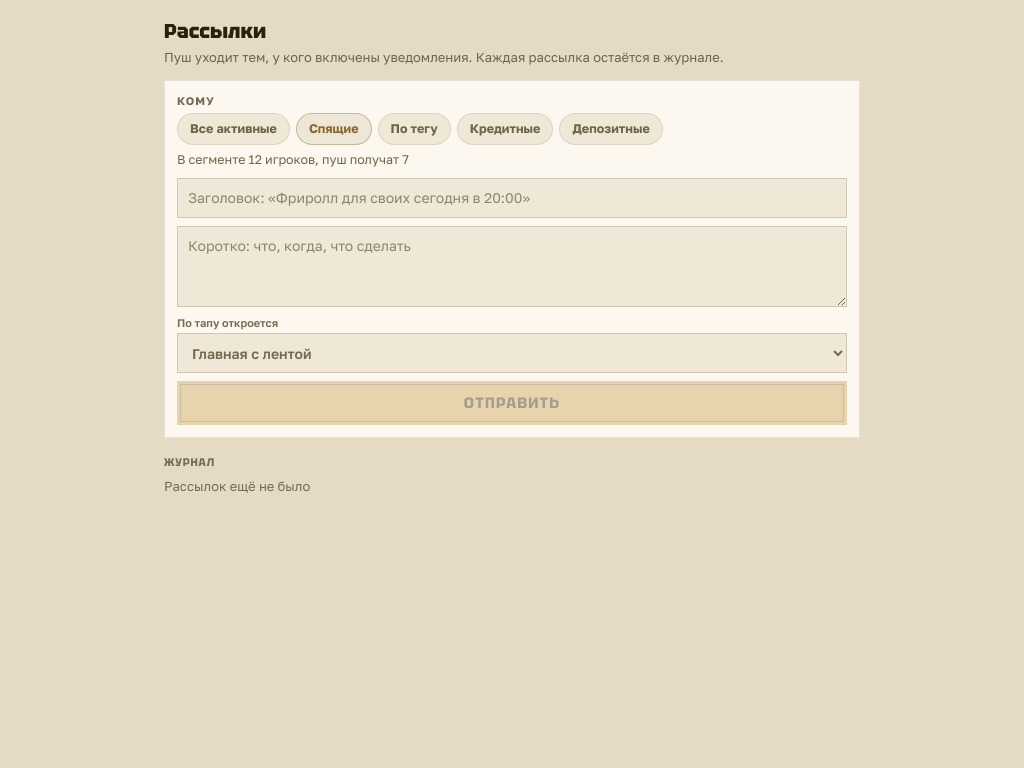
Scenario: AdminBroadcastsPage › previews the segment and sends after confirmation
Expected: the text "В сегменте 12 игроков, пуш получат 7" is shown, x1=177 y1=152 x2=409 y2=167
Type "Фриролл" into the field named "Заголовок пуша" at (512, 198), box x1=177 y1=178 x2=847 y2=218
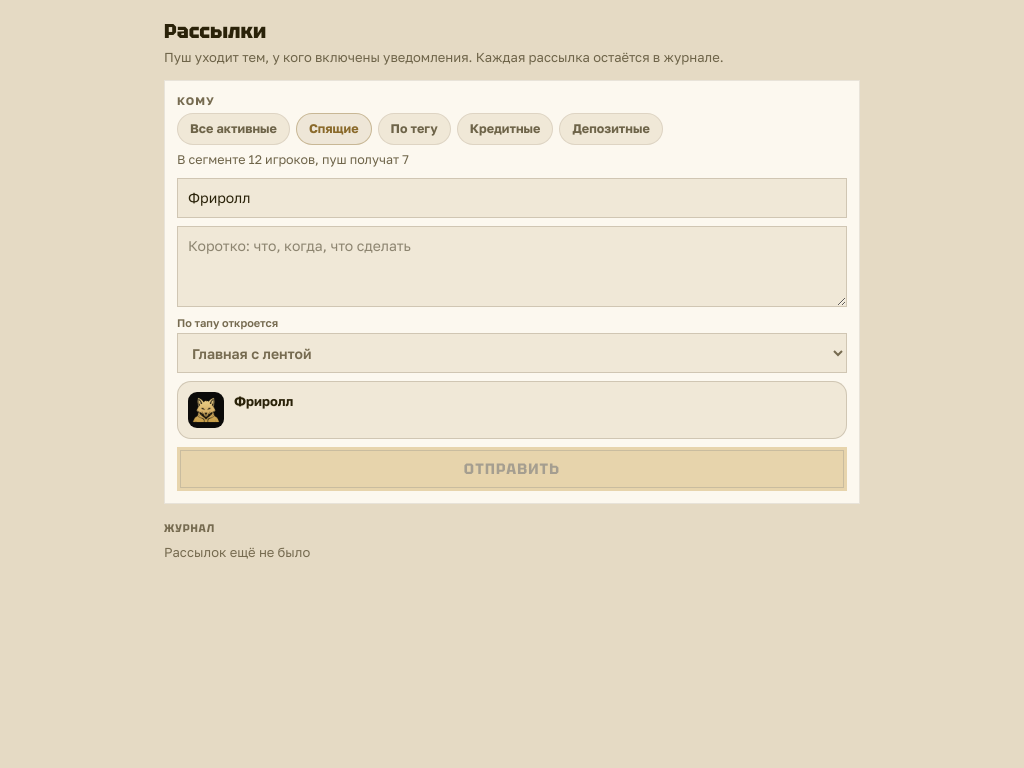
Type "Сегодня в 20:00" into the text box named "Текст пуша" at (512, 266), box x1=177 y1=226 x2=847 y2=307
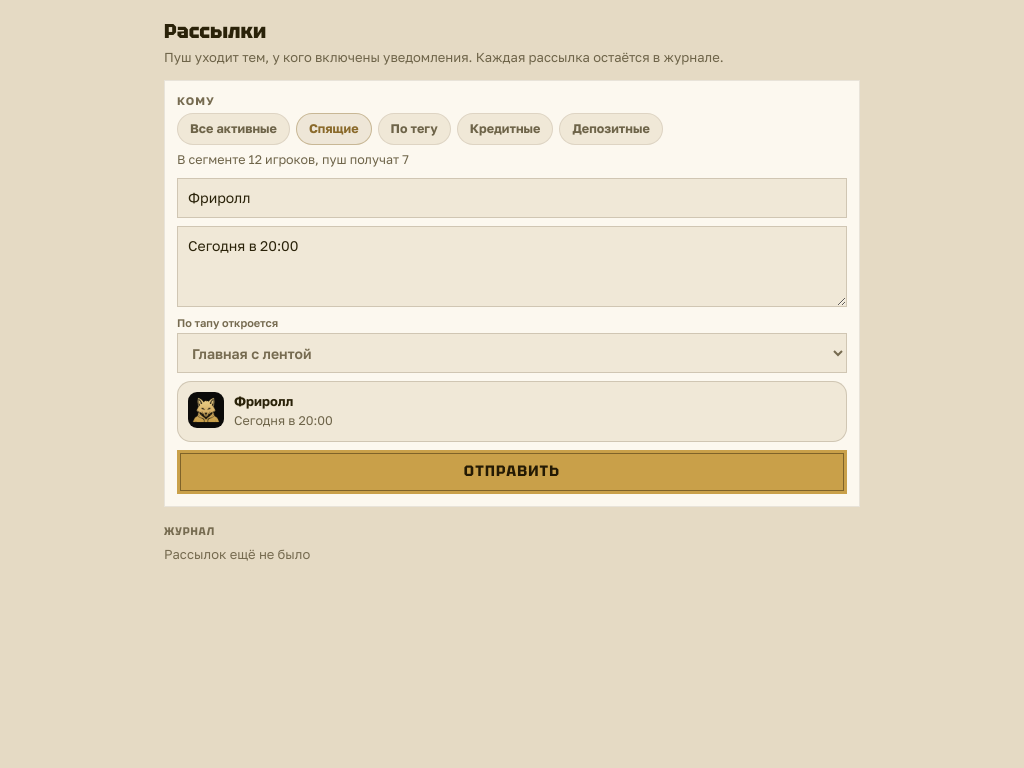
Select "Расписание" in the dropdown named "Куда ведёт пуш" at (512, 353), box x1=177 y1=333 x2=847 y2=373
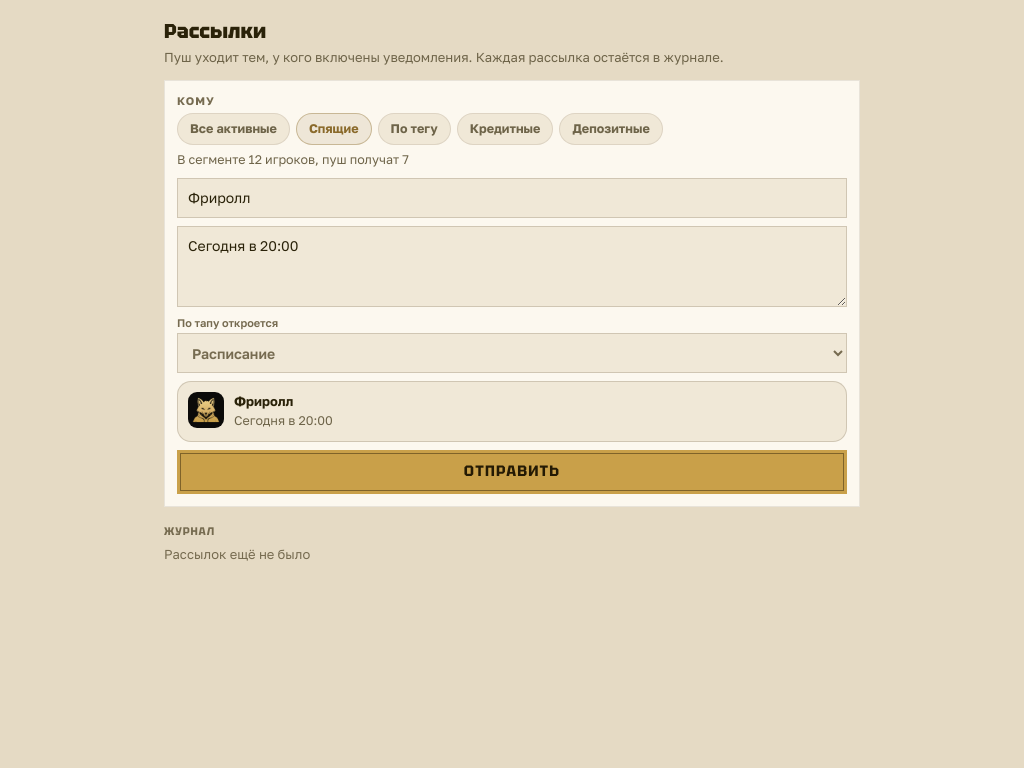
Click the button "Отправить" at (512, 472), box x1=177 y1=450 x2=847 y2=494
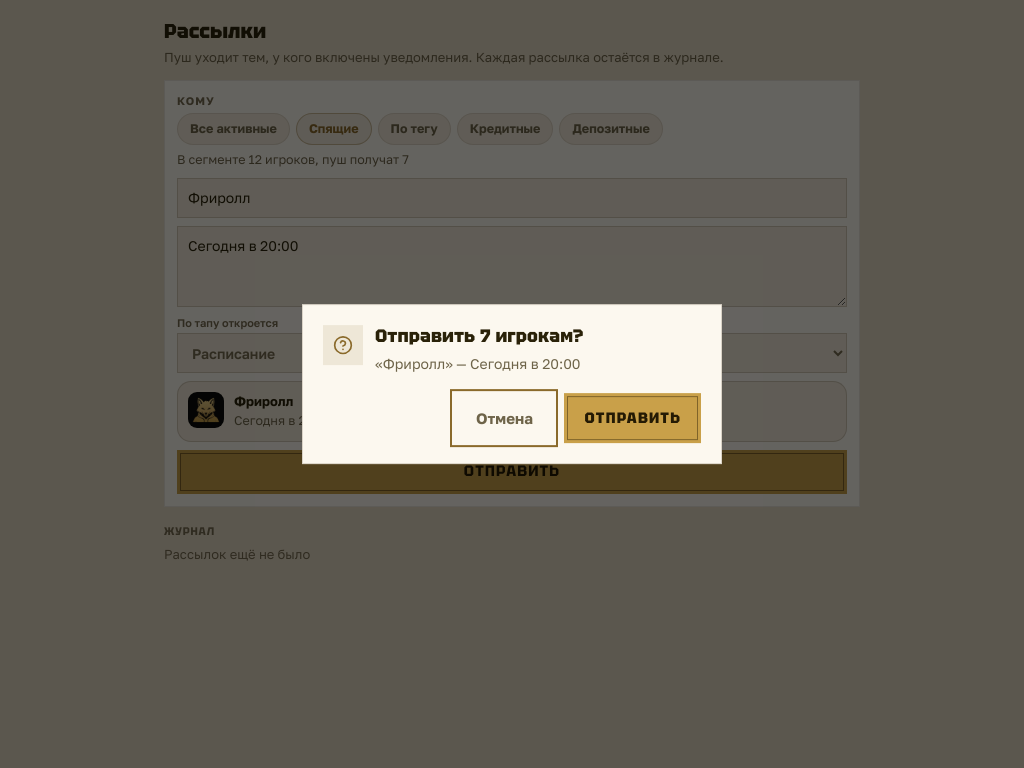
Click the button "Отправить" at (633, 418), box x1=564 y1=393 x2=701 y2=443
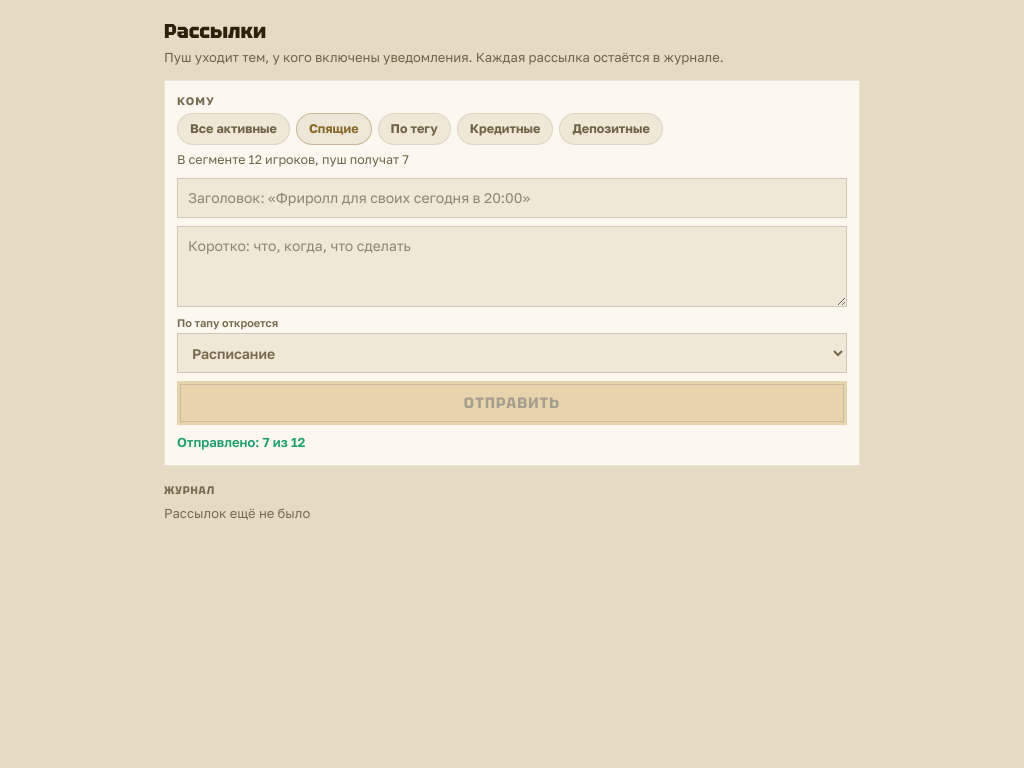
Expected: the text "Отправлено: 7 из 12" is shown, x1=177 y1=434 x2=305 y2=450
